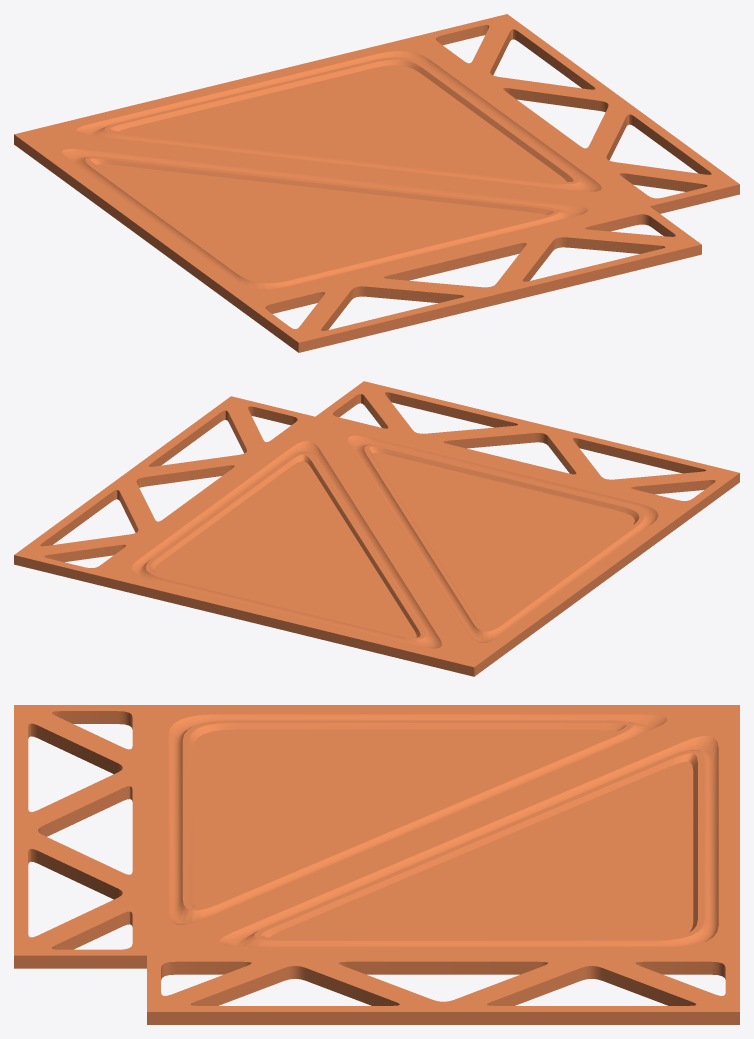
The model's file is RoundCorr_Floor_LType_A.FBX.
3 renders of one model, top to bottom at view 1: azimuth 30°, elevation 25°; view 2: azimuth 150°, elevation 25°; view 3: azimuth 270°, elevation 25°, orthographic. The views are drawn at different scales.
Parts seen in each view (by area): view 1: RoundCorr_Floor_LType_A; view 2: RoundCorr_Floor_LType_A; view 3: RoundCorr_Floor_LType_A.
Boxes of the visible parts, <box> form: RoundCorr_Floor_LType_A: <box>14,14,739,352</box>; RoundCorr_Floor_LType_A: <box>14,381,739,676</box>; RoundCorr_Floor_LType_A: <box>14,705,739,1024</box>.
Bounding box in the file's own units: 509 × 10 × 509.
